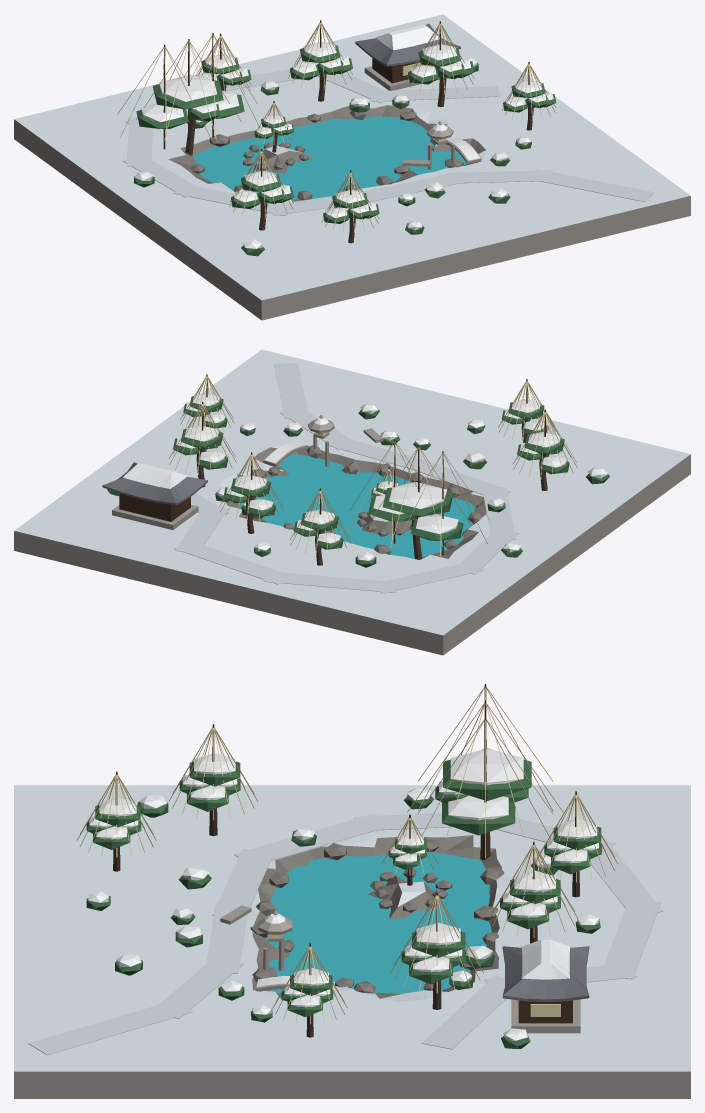
File: kenroku-en.glb
The picture shows the model from 3 angles, top to bottom: view 1: azimuth 30°, elevation 25°; view 2: azimuth 150°, elevation 25°; view 3: azimuth 270°, elevation 25°; orthographic projection. The views are drawn at different scales.
Visible parts, largest first — view 1: kenroku_terrain, kenroku_stone, kenroku_water, kenroku_snow, kenroku_packed, kenroku_pine, kenroku_straw, kenroku_darkstone, kenroku_darkwood, kenroku_tile, kenroku_bark; view 2: kenroku_terrain, kenroku_stone, kenroku_packed, kenroku_snow, kenroku_water, kenroku_pine, kenroku_straw, kenroku_darkstone, kenroku_darkwood, kenroku_tile, kenroku_bark; view 3: kenroku_terrain, kenroku_stone, kenroku_water, kenroku_packed, kenroku_snow, kenroku_pine, kenroku_darkstone, kenroku_straw, kenroku_tile, kenroku_darkwood, kenroku_bark.
Boxes of the visible parts, left/top/right/bottom form: kenroku_terrain: left=14, top=14, right=690, bottom=300; kenroku_stone: left=14, top=66, right=690, bottom=320; kenroku_water: left=193, top=116, right=466, bottom=200; kenroku_snow: left=134, top=24, right=553, bottom=248; kenroku_packed: left=123, top=69, right=654, bottom=215; kenroku_pine: left=134, top=45, right=556, bottom=256; kenroku_straw: left=117, top=22, right=555, bottom=232; kenroku_darkstone: left=168, top=105, right=485, bottom=202; kenroku_darkwood: left=163, top=20, right=529, bottom=231; kenroku_tile: left=355, top=23, right=460, bottom=66; kenroku_bark: left=185, top=73, right=533, bottom=243; kenroku_terrain: left=14, top=349, right=690, bottom=635; kenroku_stone: left=14, top=414, right=690, bottom=655; kenroku_packed: left=173, top=363, right=518, bottom=593; kenroku_snow: left=109, top=393, right=607, bottom=561; kenroku_water: left=238, top=454, right=475, bottom=558; kenroku_pine: left=107, top=396, right=609, bottom=567; kenroku_straw: left=169, top=376, right=577, bottom=556; kenroku_darkstone: left=226, top=445, right=486, bottom=559; kenroku_darkwood: left=119, top=374, right=545, bottom=555; kenroku_tile: left=102, top=462, right=207, bottom=505; kenroku_bark: left=196, top=411, right=547, bottom=565; kenroku_terrain: left=14, top=785, right=690, bottom=1071; kenroku_stone: left=14, top=905, right=690, bottom=1098; kenroku_water: left=265, top=852, right=491, bottom=995; kenroku_packed: left=28, top=813, right=663, bottom=1055; kenroku_snow: left=88, top=748, right=599, bottom=1040; kenroku_pine: left=86, top=748, right=601, bottom=1048; kenroku_darkstone: left=250, top=835, right=504, bottom=1000; kenroku_straw: left=76, top=687, right=618, bottom=1024; kenroku_tile: left=502, top=946, right=589, bottom=1002; kenroku_darkwood: left=115, top=684, right=576, bottom=1023; kenroku_bark: left=113, top=808, right=579, bottom=1037.
Bounding box in the file's own units: 22.4 × 6.52 × 22.4.
